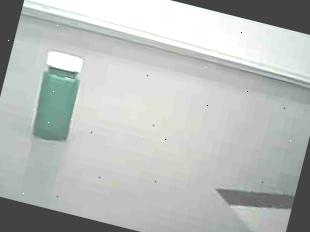Bottle C: (17, 41, 97, 152)
